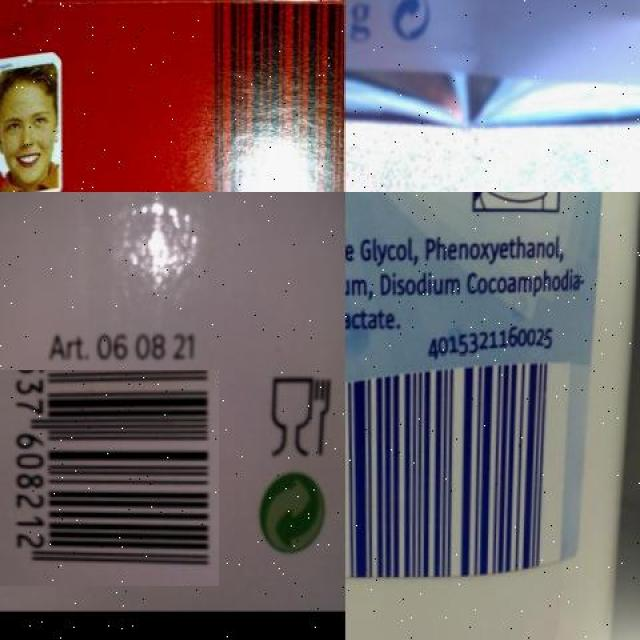Barcode: (345, 354, 568, 590), (0, 369, 218, 588), (174, 0, 346, 192)
